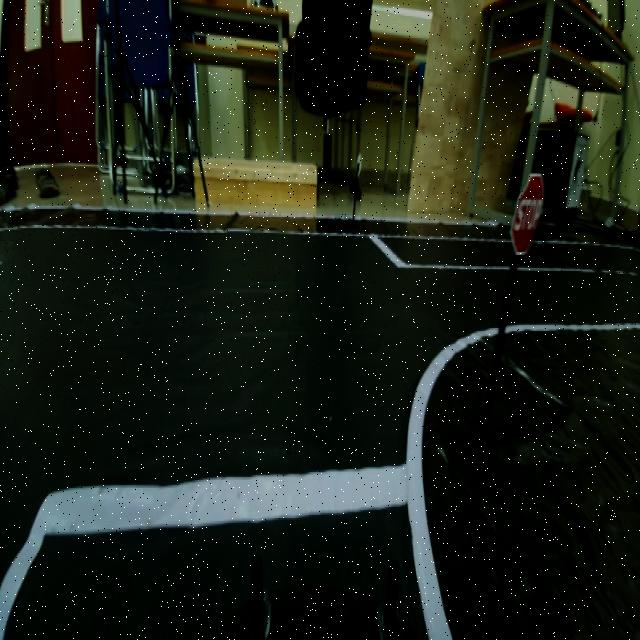stop: (508, 168, 548, 263)
